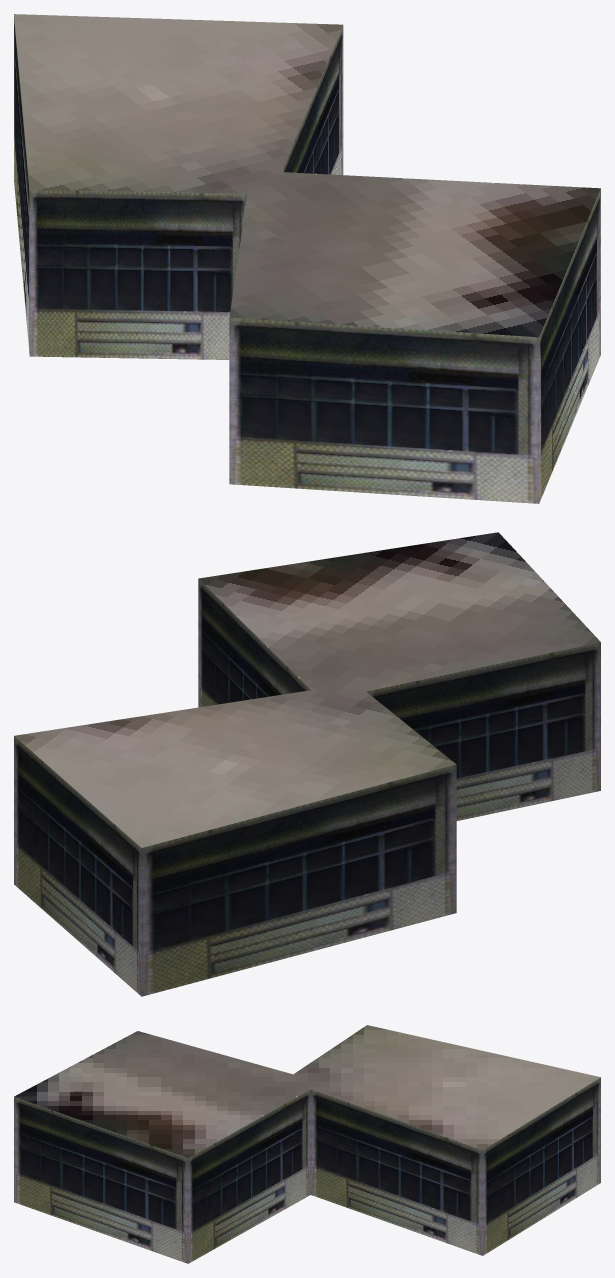
3 renders of one model, top to bottom at view 1: azimuth 30°, elevation 25°; view 2: azimuth 150°, elevation 25°; view 3: azimuth 270°, elevation 25°, orthographic. The views are drawn at different scales.
Parts seen in each view (by area): view 1: SketchUp (×6); view 2: SketchUp (×5); view 3: SketchUp (×5).
Part boxes in pixels (x1,y1,x2,y2): SketchUp (×6): (14,14,600,503); SketchUp (×5): (14,532,600,996); SketchUp (×5): (14,1025,600,1263).
Size of the model in its own units: 7.11 by 13.24 by 2.63.
2 materials, 2 textured.
